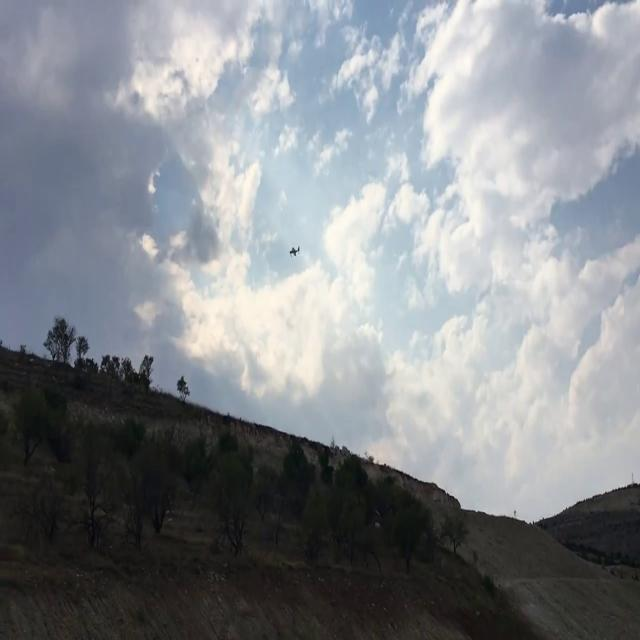iha: (287, 245, 300, 257)
